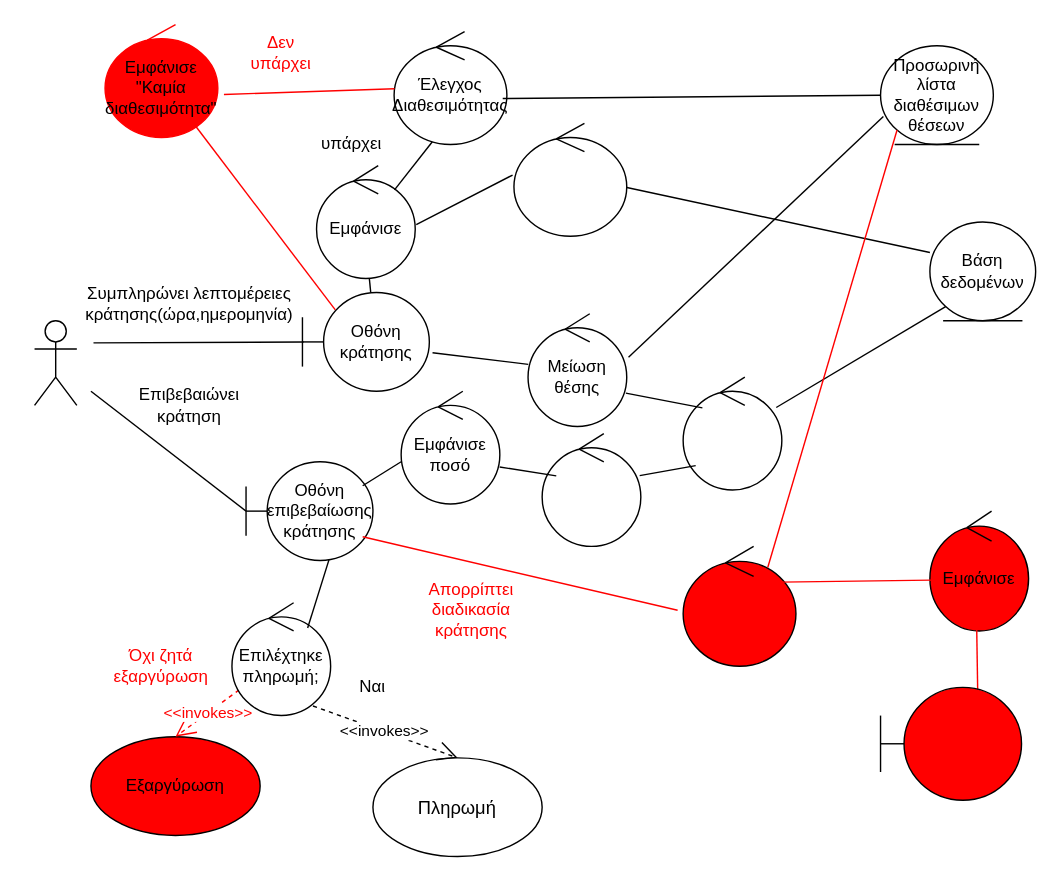
Some shapes in this 1060 by 881 pixel diagram are drawn without their labels. The shapes that lost their labels are listed below. From the top down, each one's centre as x and y in pixels, then its label:
pixel 570 179: Άντλησε στοιχεία συνδεδεμένου χρήστη
pixel 55 362: Πελάτης
pixel 732 433: Βρες τιμή επιλεγμένου πάρκινγκ
pixel 591 489: Υπολόγισε τιμή
pixel 739 605: Αποδέσμευσε θέση
pixel 950 743: Αρχική οθόνη πελάτη
